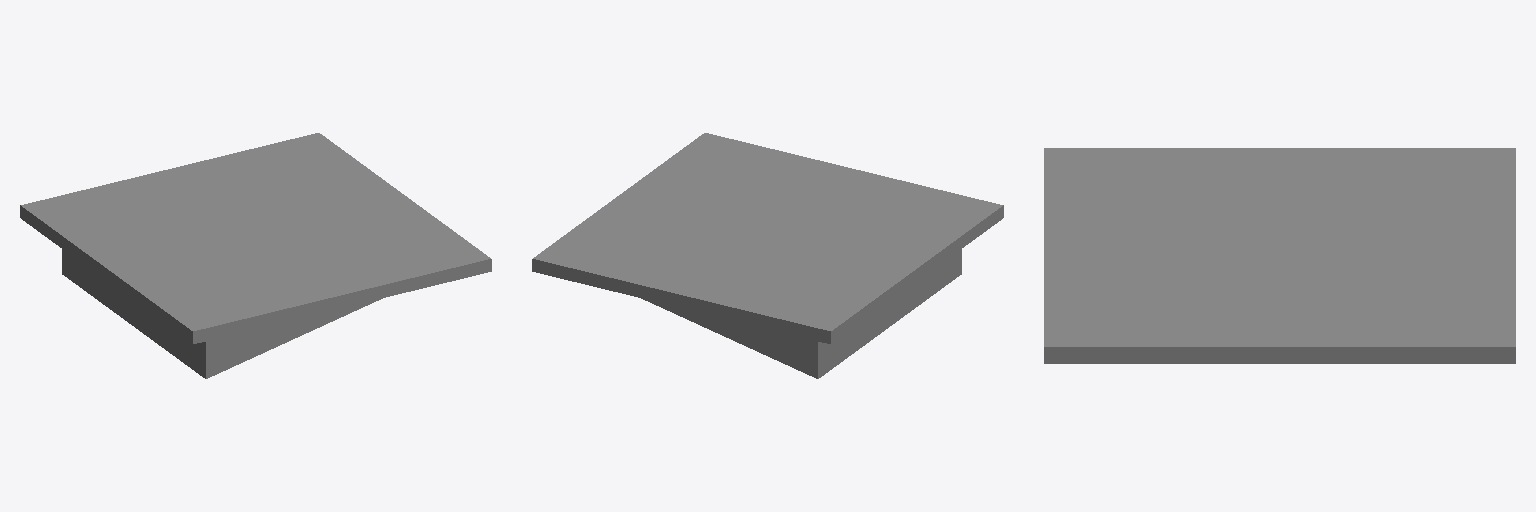
robot.urdf — Stage:
<?xml version="1.0" ?>
<robot name="Stage">
    <link name="link0">
        <visual>
          <geometry>
            <mesh filename="package://mesh3/flippedStage.stl"/>
          </geometry>
          <material name="color0"/>
        </visual>
        <collision>
          <geometry>
            <mesh filename="package://mesh3/flippedStage.stl"/>
          </geometry>
          <material name="color0"/>
        </collision>
        <inertial>
          <origin xyz="0 0 0" rpy="0 0 0"/>
          <mass value="10"/>
          <inertia ixx="1" ixy="0.0" ixz="0.0" iyy="1" iyz="0.0" izz="1"/>
        </inertial>
    </link>

    <material name="color0">
        <color rgba="0.6  0.6 0.6 0.9"/>
      </material>
</robot>

--- Render facts (derived) ---
The picture shows the robot from 3 angles, left to right: view 1: azimuth 30°, elevation 25°; view 2: azimuth 150°, elevation 25°; view 3: azimuth 270°, elevation 25°; orthographic projection.
Robot: Stage — 1 links, 0 joints (none); root link link0; default pose: every joint at zero.
Visible links, largest first — view 1: link0; view 2: link0; view 3: link0.
Boxes of the visible links, x1,y1,x2,y2 form: link0: (20,133,491,378); link0: (532,133,1003,378); link0: (1044,148,1515,363).
Bounding box of the posed robot: 0.12 × 0.12 × 0.025 m (x, y, z).
1 mesh visuals loaded from 1 distinct referenced files (1 binary STL).